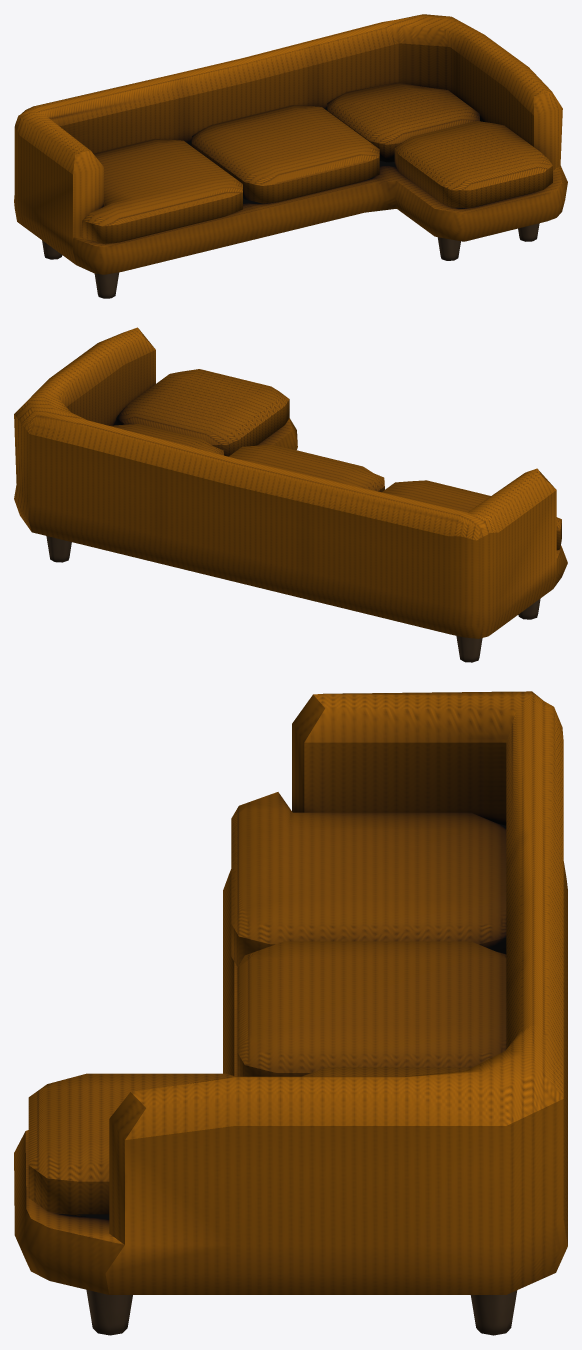
The model's file is Sofa_B.fbx.
The picture shows the model from 3 angles, top to bottom: view 1: azimuth 30°, elevation 25°; view 2: azimuth 150°, elevation 25°; view 3: azimuth 270°, elevation 25°; orthographic projection. The views are drawn at different scales.
Parts seen in each view (by area): view 1: Sofa_B; view 2: Sofa_B; view 3: Sofa_B.
Boxes of the visible parts, <box> form: Sofa_B: <box>14,14,567,298</box>; Sofa_B: <box>14,327,567,662</box>; Sofa_B: <box>14,691,567,1335</box>.
Bounding box in the file's own units: 353 × 109 × 200.
Materials: 1 (1 with a texture image).
